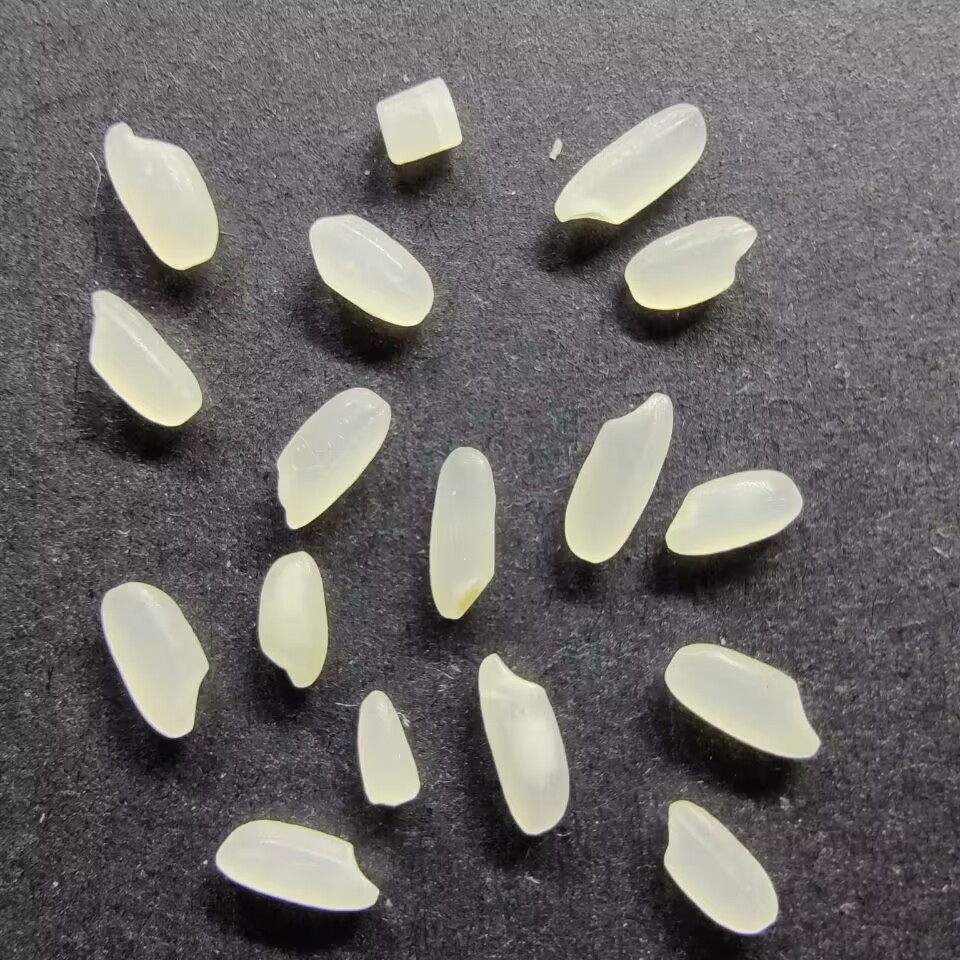broken: (371, 77, 463, 167), (355, 688, 422, 808)
rice: (553, 101, 710, 226), (562, 391, 674, 564), (663, 642, 825, 761), (101, 119, 221, 270), (100, 582, 210, 741), (274, 385, 392, 533), (477, 651, 571, 835), (86, 287, 203, 428), (660, 798, 779, 936), (214, 818, 381, 911), (307, 214, 434, 326), (622, 215, 757, 310), (428, 444, 498, 621), (664, 470, 803, 556), (257, 549, 330, 689)
